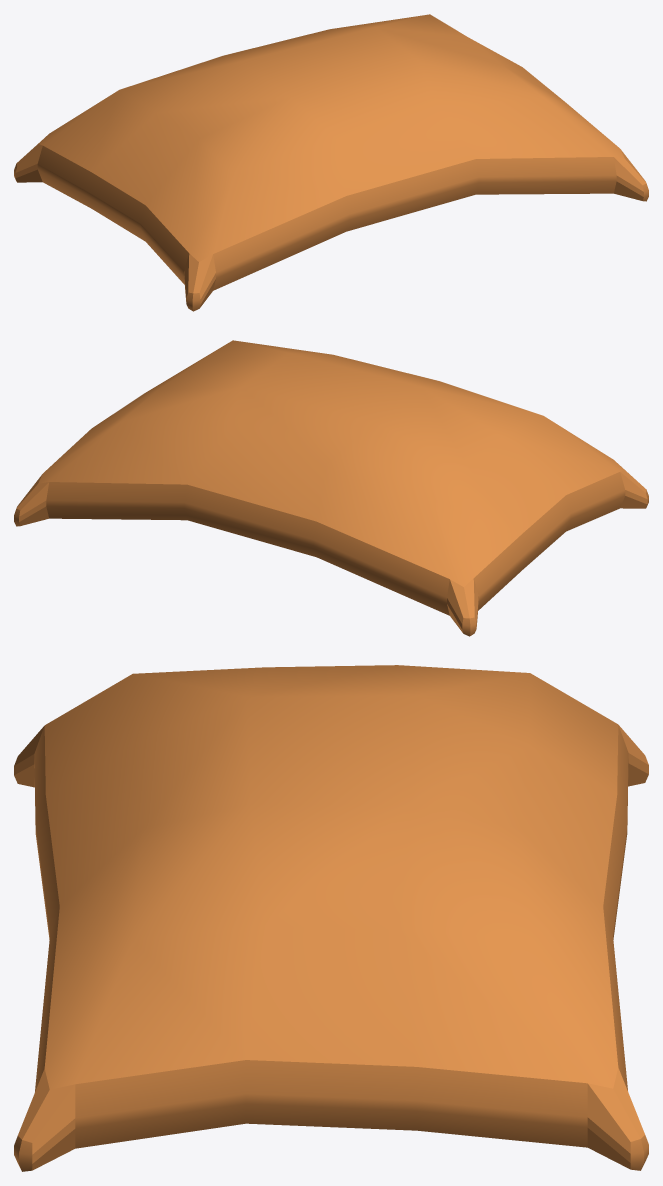
The model's file is GrainSack_Stackable.fbx.
The picture shows the model from 3 angles, top to bottom: view 1: azimuth 30°, elevation 25°; view 2: azimuth 150°, elevation 25°; view 3: azimuth 270°, elevation 25°; orthographic projection. The views are drawn at different scales.
Visible parts, largest first — view 1: Grain_Sack_Stackable; view 2: Grain_Sack_Stackable; view 3: Grain_Sack_Stackable.
Part boxes in pixels (left/top/right/bottom): Grain_Sack_Stackable: left=14, top=14, right=648, bottom=311; Grain_Sack_Stackable: left=14, top=340, right=648, bottom=636; Grain_Sack_Stackable: left=14, top=665, right=648, bottom=1171.
Size of the model in its own units: 24.71 by 6.73 by 16.83.
